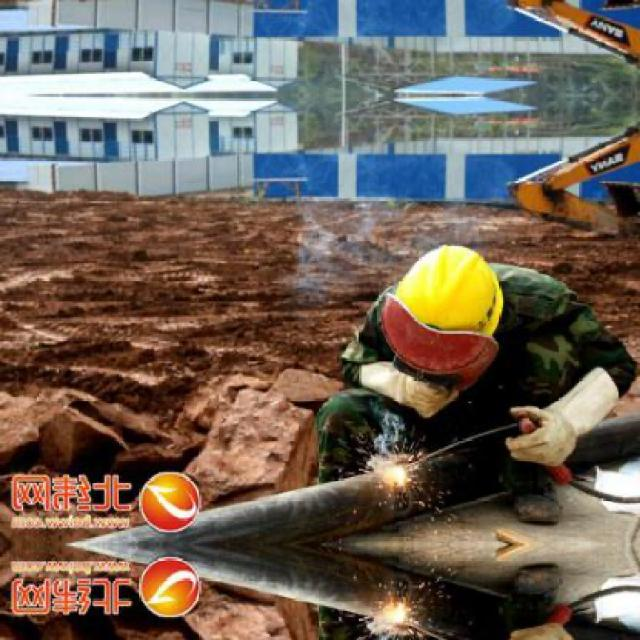helmet: (372, 234, 516, 372)
